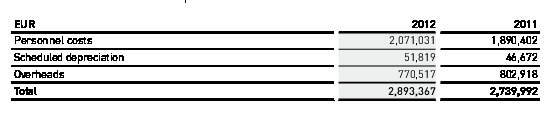table: (0, 0, 552, 116)
